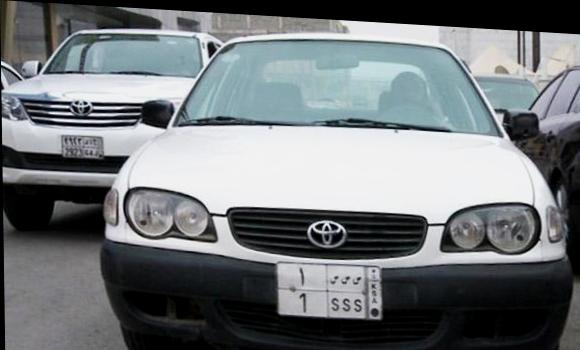License_Plate: (273, 257, 389, 323), (60, 133, 105, 161)
